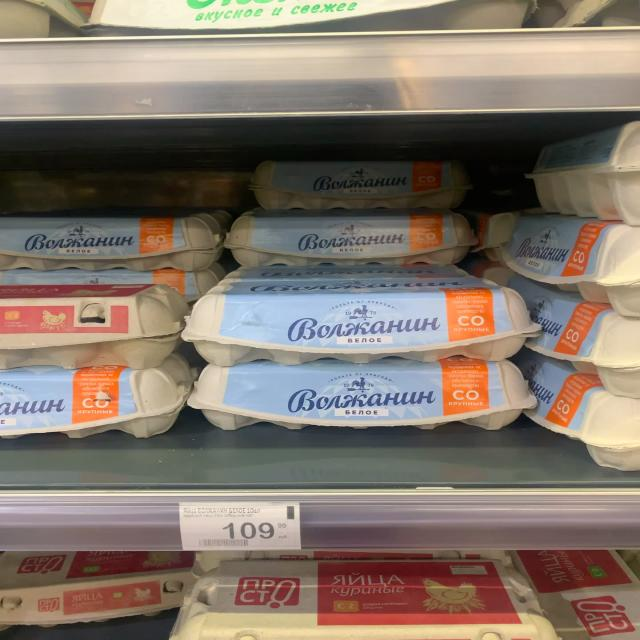egg box: (182, 269, 544, 368), (162, 559, 562, 638), (186, 353, 538, 434), (2, 280, 188, 369), (0, 363, 188, 445), (229, 211, 478, 269), (1, 211, 228, 274), (251, 154, 476, 214)
